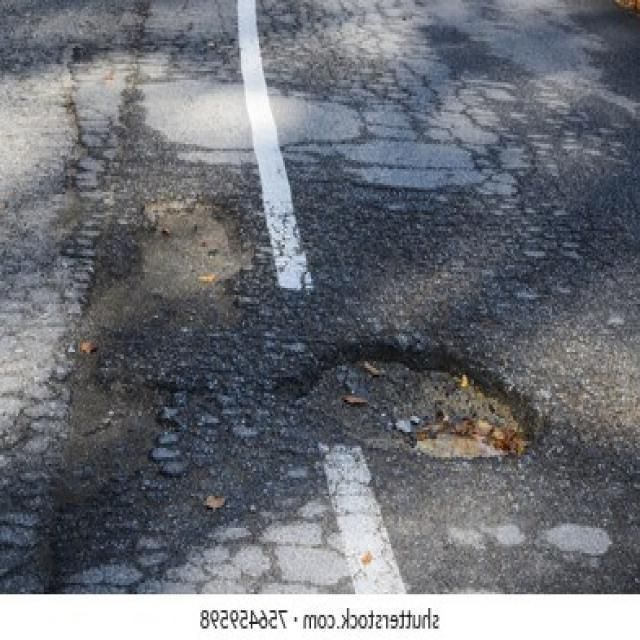pothole: (303, 338, 543, 464), (43, 375, 183, 506), (135, 199, 253, 334)
